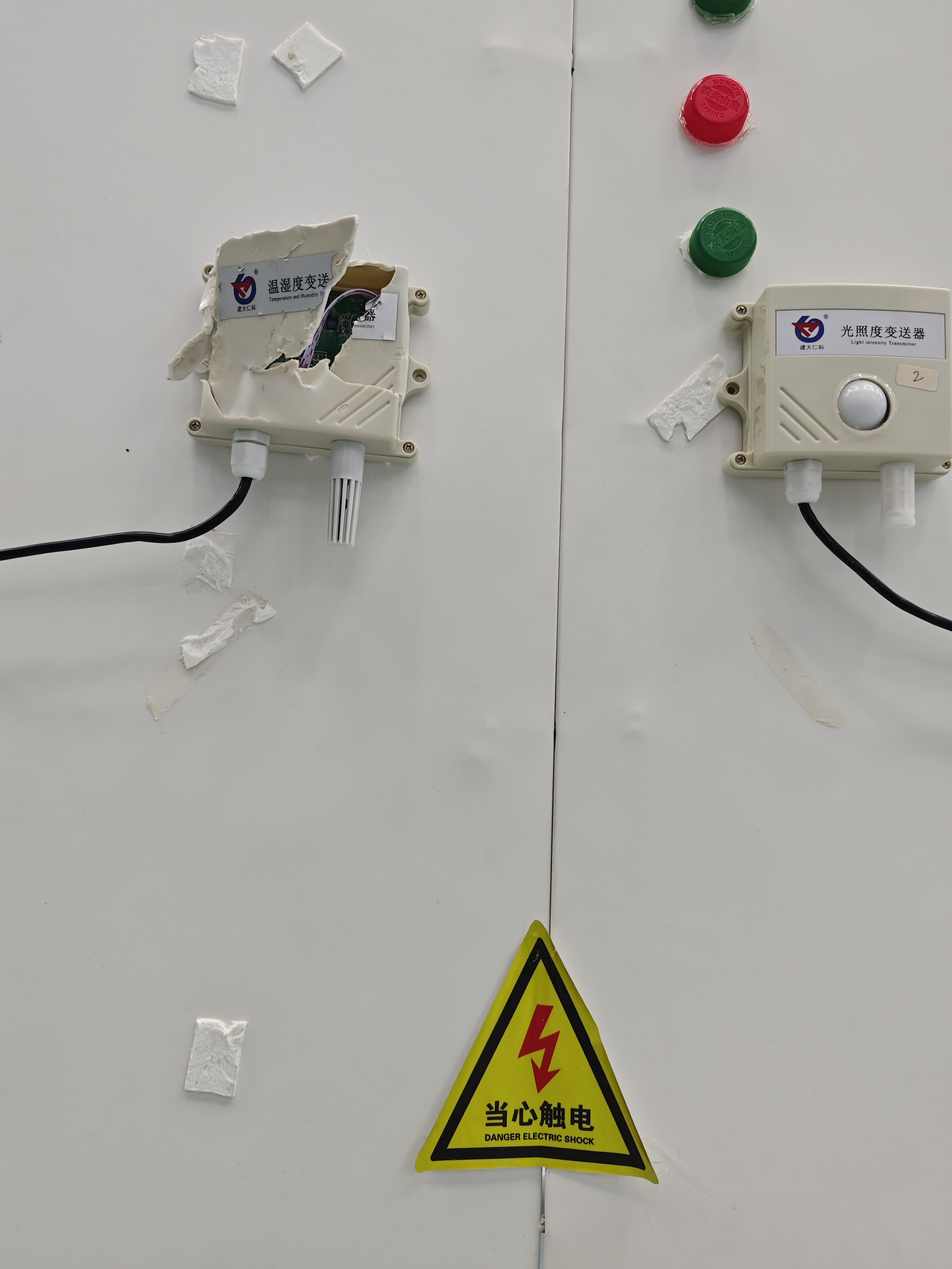red_warning: (665, 56, 781, 149)
sensor_damage: (149, 194, 455, 576)
